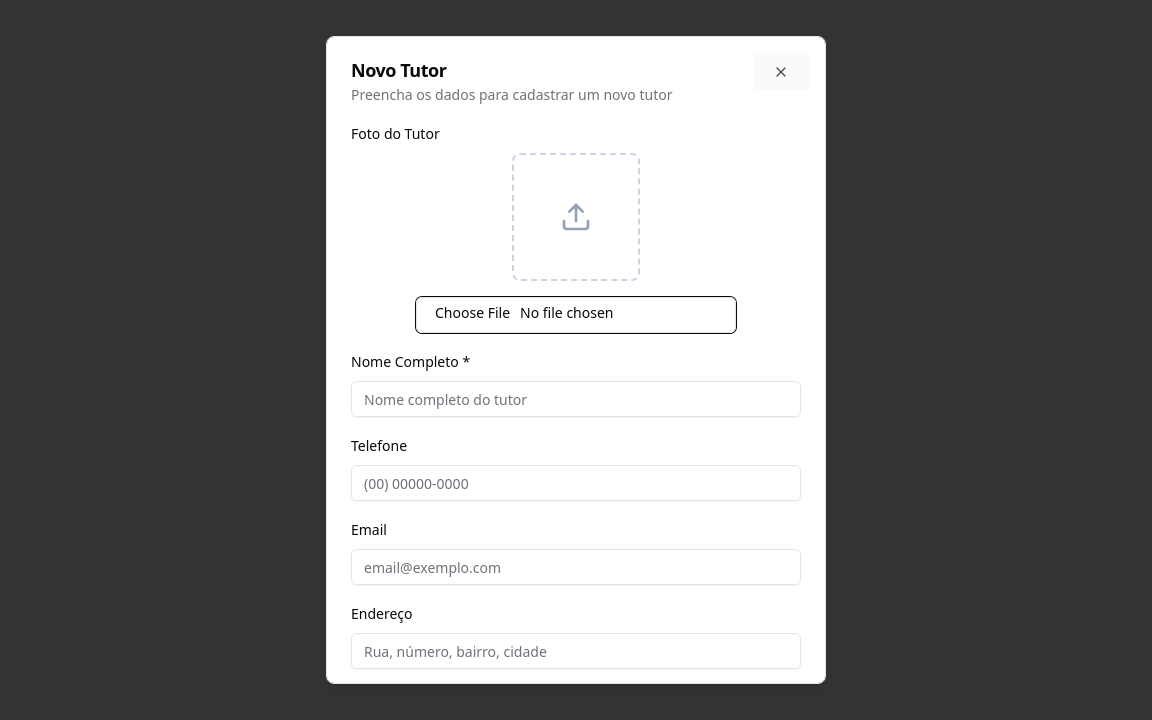
Scenario: TutorFormDialog › aplica máscara de telefone enquanto digita
The image size is (1152, 720).
Step 1. Type "11987654321" into the field labelled "Telefone" → x=576, y=483, box top-left (351, 465), bottom-right (801, 501)
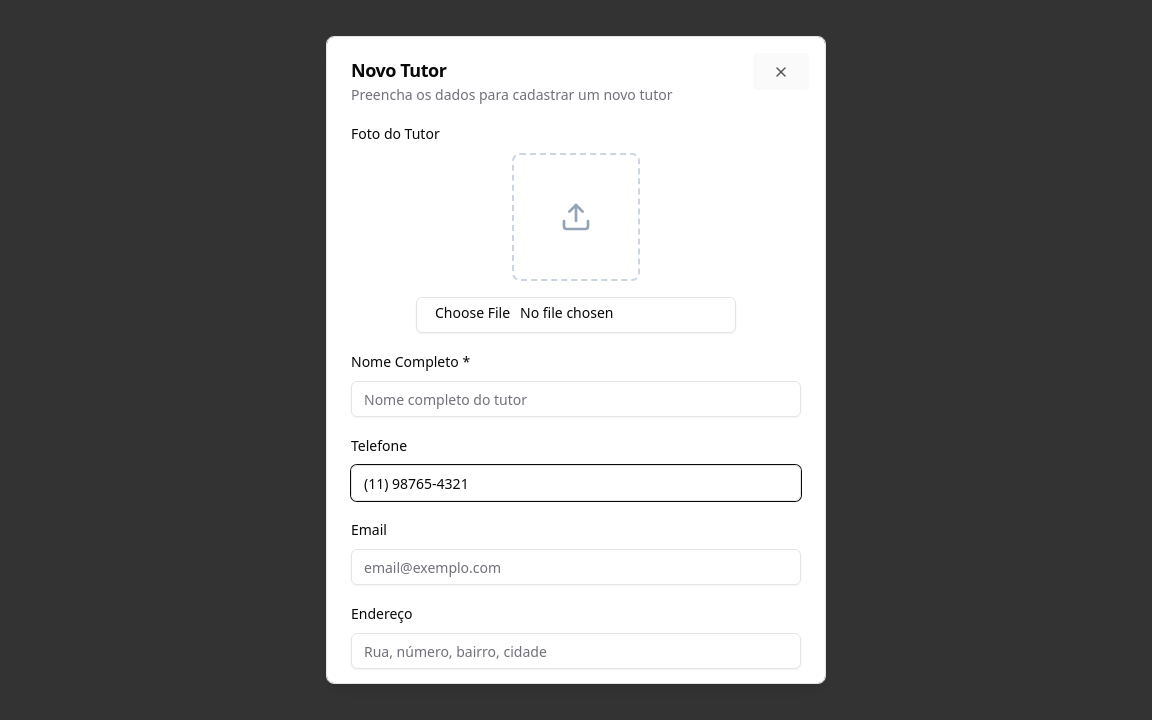
Expected: the field labelled "Telefone" holds "(11) 98765-4321", top-left (351, 465), bottom-right (801, 501)
